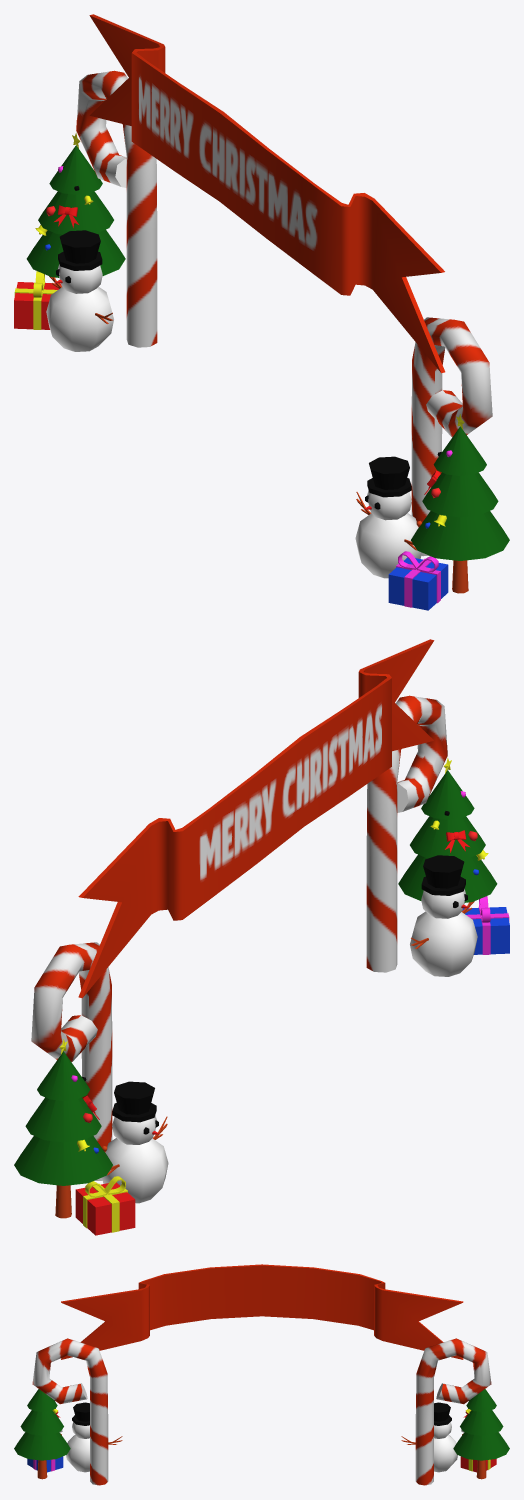
The model's file is Christmas gate.FBX.
3 renders of one model, top to bottom at view 1: azimuth 30°, elevation 25°; view 2: azimuth 150°, elevation 25°; view 3: azimuth 270°, elevation 25°, orthographic. The views are drawn at different scales.
Parts seen in each view (by area): view 1: cong Christmas, cong Christmas001, cay thong noel002, Cylinder162, cay thong noel001, Cylinder163; view 2: cong Christmas, cong Christmas001, cay thong noel001, Cylinder163, cay thong noel002, Cylinder162; view 3: cong Christmas, cong Christmas001, cay thong noel001, cay thong noel002, Cylinder162, Cylinder163.
Boxes of the visible parts, x1,y1,x2,y2 form: cong Christmas: (14,14,492,610); cong Christmas001: (76,70,157,347); cay thong noel002: (411,414,509,593); Cylinder162: (46,230,113,351); cay thong noel001: (26,132,125,277); Cylinder163: (355,456,421,578); cong Christmas: (75,639,509,1235); cong Christmas001: (31,942,112,1180); cay thong noel001: (14,1039,112,1218); Cylinder163: (410,855,477,976); cay thong noel002: (398,757,497,902); Cylinder162: (102,1081,168,1203); cong Christmas: (27,1264,496,1485); cong Christmas001: (415,1338,491,1485); cay thong noel001: (453,1389,509,1479); cay thong noel002: (14,1389,70,1479); Cylinder162: (401,1402,457,1472); Cylinder163: (66,1402,122,1472).
Size of the model in its own units: 1.74 by 5.27 by 11.89.
